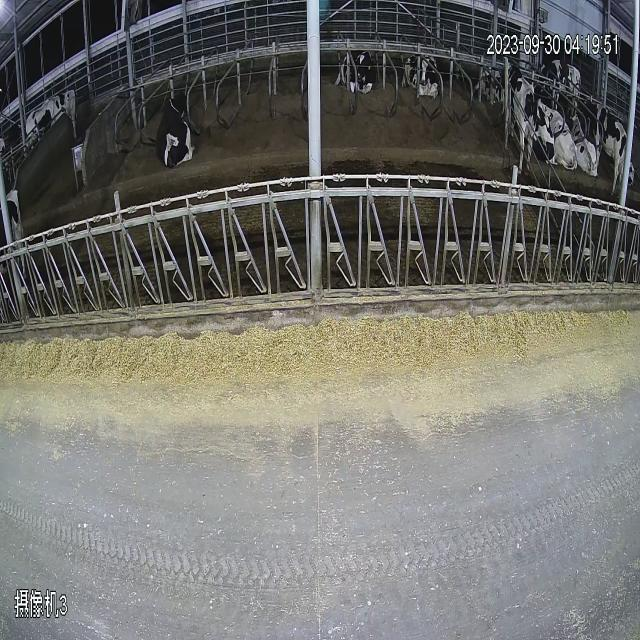lying down: (151, 58, 203, 188), (536, 84, 596, 195), (397, 27, 452, 126), (332, 30, 386, 112), (469, 37, 504, 117)
standing: (15, 66, 90, 158), (584, 79, 631, 197), (499, 42, 539, 179), (0, 178, 33, 324), (531, 34, 593, 110)
